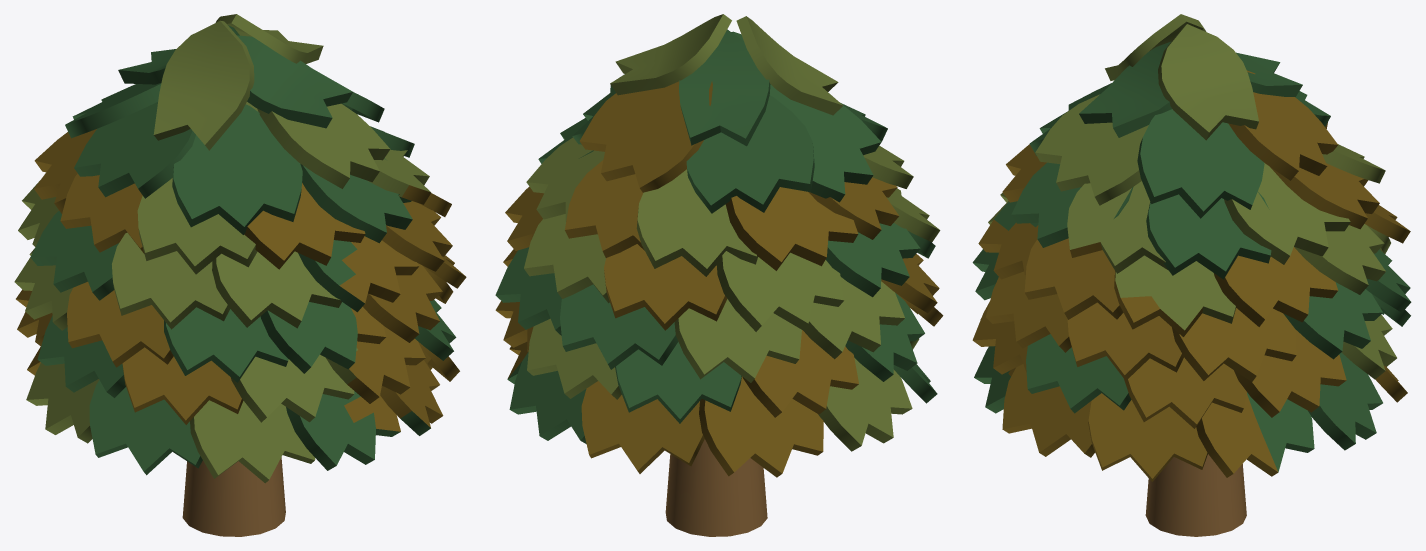
Rendered from PineTree.fbx.
The picture shows the model from 3 angles, left to right: view 1: azimuth 30°, elevation 25°; view 2: azimuth 150°, elevation 25°; view 3: azimuth 270°, elevation 25°; orthographic projection. The views are drawn at different scales.
Parts seen in each view (by area): view 1: group16_pCylinder190; view 2: group16_pCylinder190; view 3: group16_pCylinder190.
Part boxes in pixels (<box>): group16_pCylinder190: <box>14,14,466,536</box>; group16_pCylinder190: <box>495,14,943,536</box>; group16_pCylinder190: <box>972,14,1411,536</box>.
Size of the model in its own units: 2.11 by 2.59 by 2.1.
